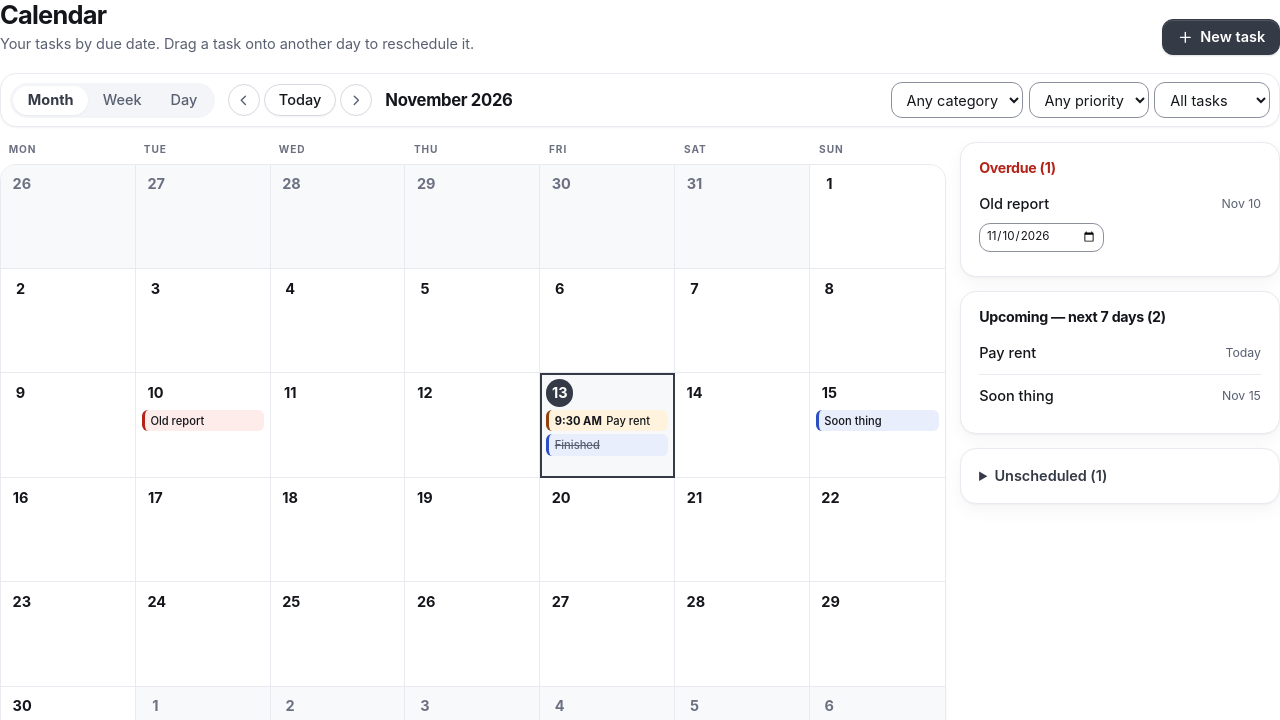
Calendar › opens an existing task for editing when its chip is clicked
Click the button "Pay rent": {"x": 607, "y": 421} [546,410,668,432]
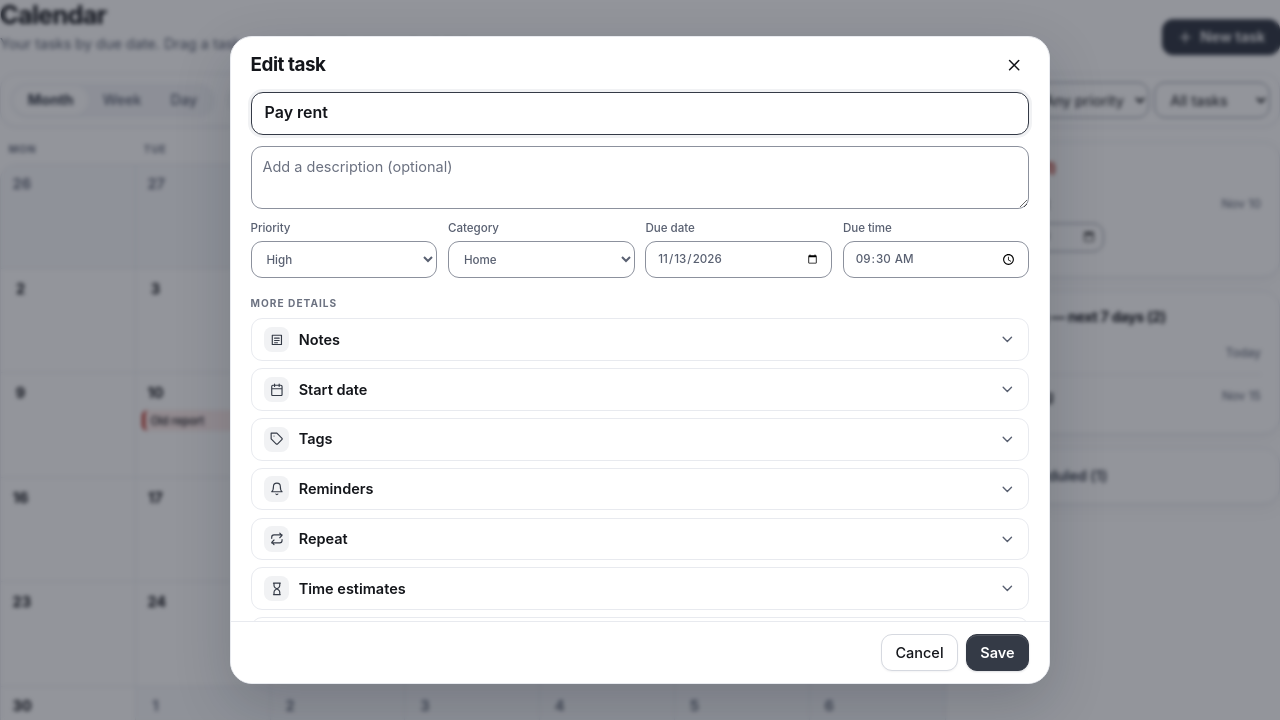
Expected: the field named "Title" holds "Pay rent", [251,92,1030,135]
